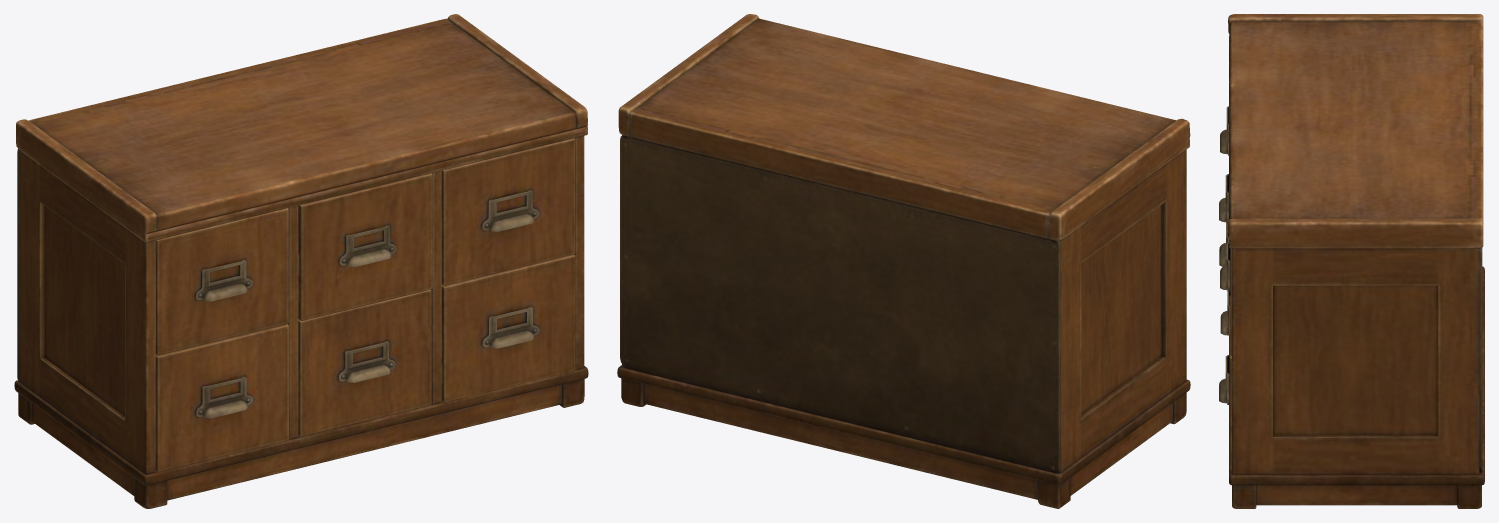
The model's file is vintage_wooden_drawer_01.gltf.
3 views of the same model, side by side, from view 1: azimuth 30°, elevation 25°; view 2: azimuth 150°, elevation 25°; view 3: azimuth 270°, elevation 25° (orthographic). The views are drawn at different scales.
Visible parts, largest first — view 1: vintage_wooden_drawer_01_body, vintage_wooden_drawer_01_drawer06, vintage_wooden_drawer_01_drawer02, vintage_wooden_drawer_01_drawer04, vintage_wooden_drawer_01_drawer03, vintage_wooden_drawer_01_drawer01, vintage_wooden_drawer_01_drawer05; view 2: vintage_wooden_drawer_01_body; view 3: vintage_wooden_drawer_01_body, vintage_wooden_drawer_01_drawer06, vintage_wooden_drawer_01_drawer03, vintage_wooden_drawer_01_drawer02.
Part boxes in pixels (x1=…): vintage_wooden_drawer_01_body: x1=14, y1=14, x2=588, y2=508; vintage_wooden_drawer_01_drawer06: x1=441, y1=254, x2=575, y2=402; vintage_wooden_drawer_01_drawer02: x1=298, y1=173, x2=432, y2=320; vintage_wooden_drawer_01_drawer04: x1=155, y1=324, x2=288, y2=472; vintage_wooden_drawer_01_drawer03: x1=441, y1=138, x2=574, y2=285; vintage_wooden_drawer_01_drawer01: x1=155, y1=208, x2=288, y2=355; vintage_wooden_drawer_01_drawer05: x1=298, y1=289, x2=431, y2=436; vintage_wooden_drawer_01_body: x1=617, y1=14, x2=1190, y2=508; vintage_wooden_drawer_01_body: x1=1228, y1=14, x2=1484, y2=508; vintage_wooden_drawer_01_drawer06: x1=1219, y1=295, x2=1231, y2=469; vintage_wooden_drawer_01_drawer03: x1=1220, y1=242, x2=1231, y2=355; vintage_wooden_drawer_01_drawer02: x1=1219, y1=174, x2=1228, y2=223.
Size of the model in its own units: 0.8576 by 0.5454 by 0.4574.
1 material, 1 textured.
